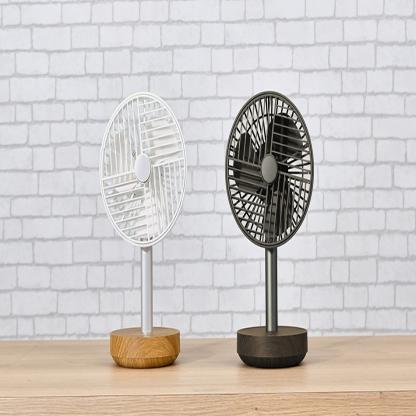fan: (219, 68, 321, 270), (106, 76, 180, 250)
